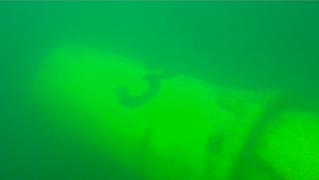3: (115, 65, 176, 108)
pipe: (31, 43, 319, 180)
